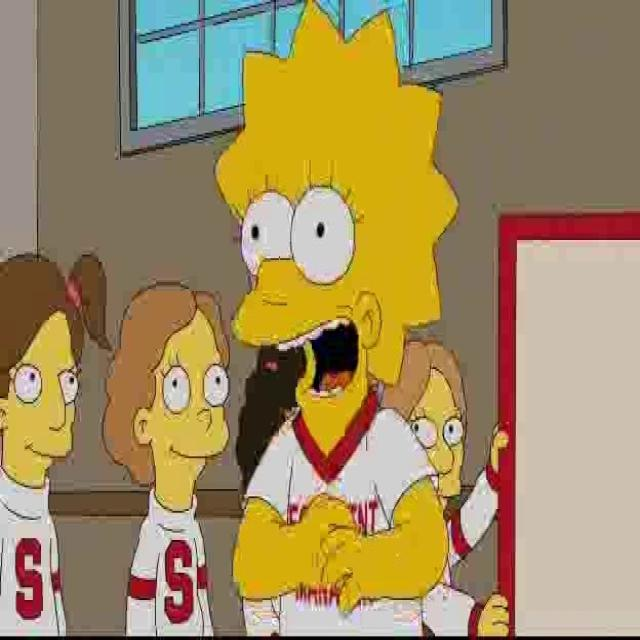Lisa Simpson: (212, 4, 463, 487)
